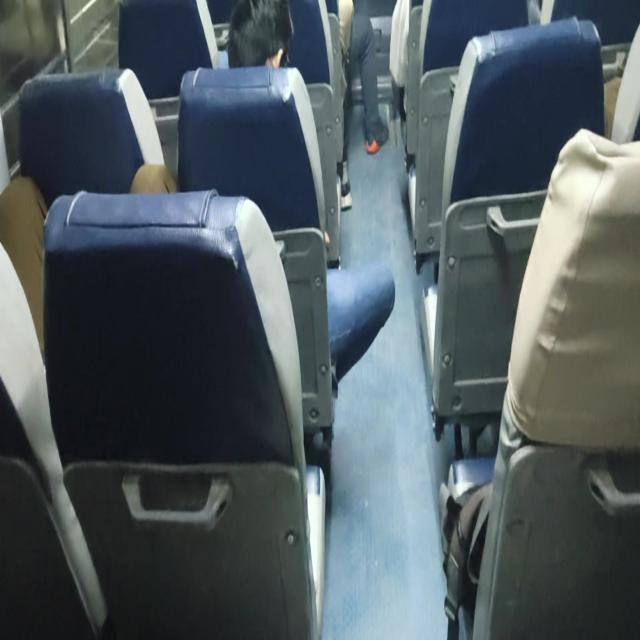person: (130, 0, 396, 390), (337, 1, 388, 154), (226, 0, 294, 69)
